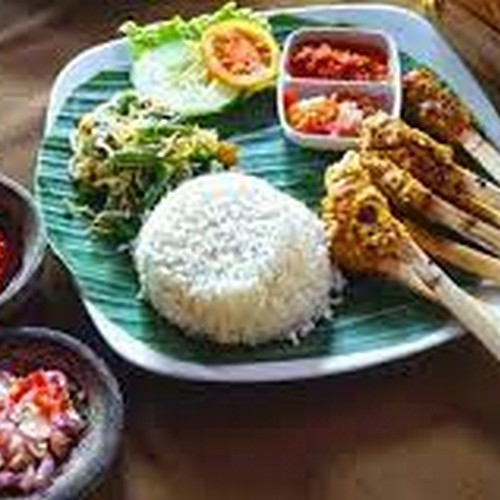nasi campur bali: (92, 82, 407, 322)
